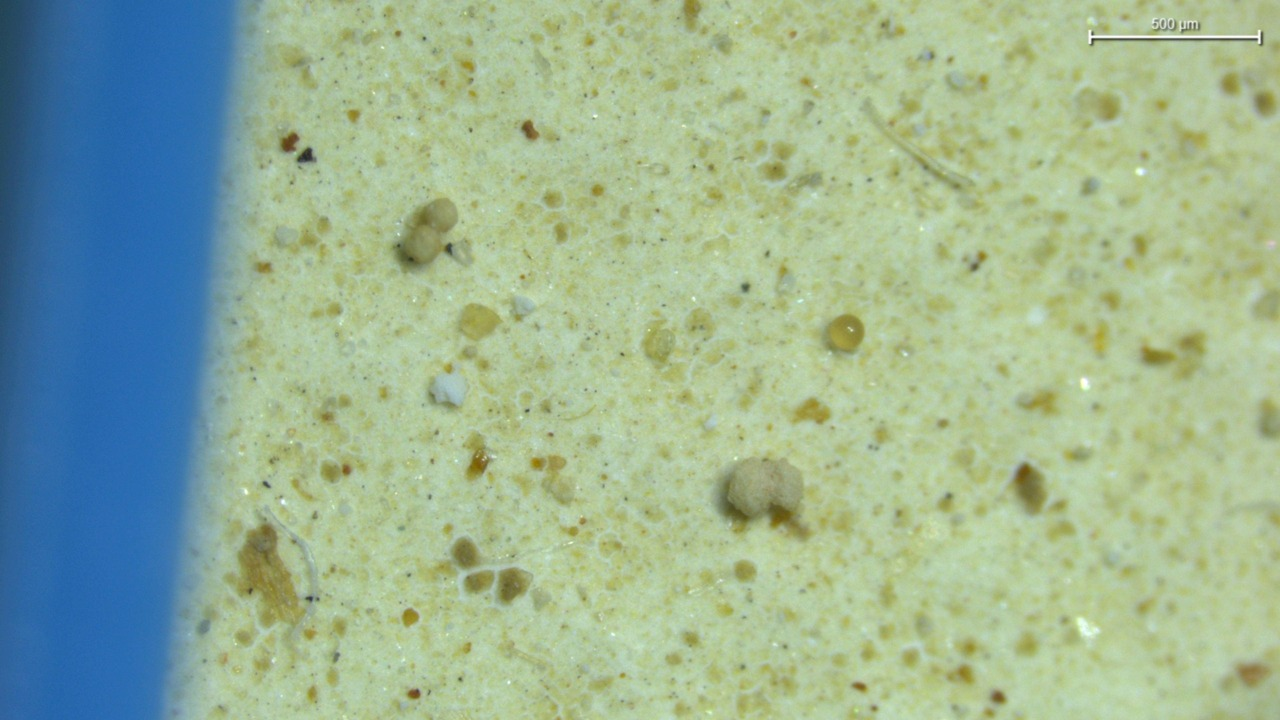microplastic_fragment: (726, 458, 803, 518), (401, 224, 444, 264), (459, 304, 501, 340), (827, 315, 865, 353), (416, 198, 458, 232), (430, 372, 467, 406), (514, 295, 536, 316)
